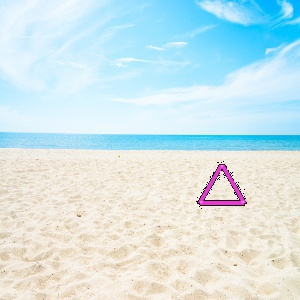triangle: (194, 160, 249, 211)
